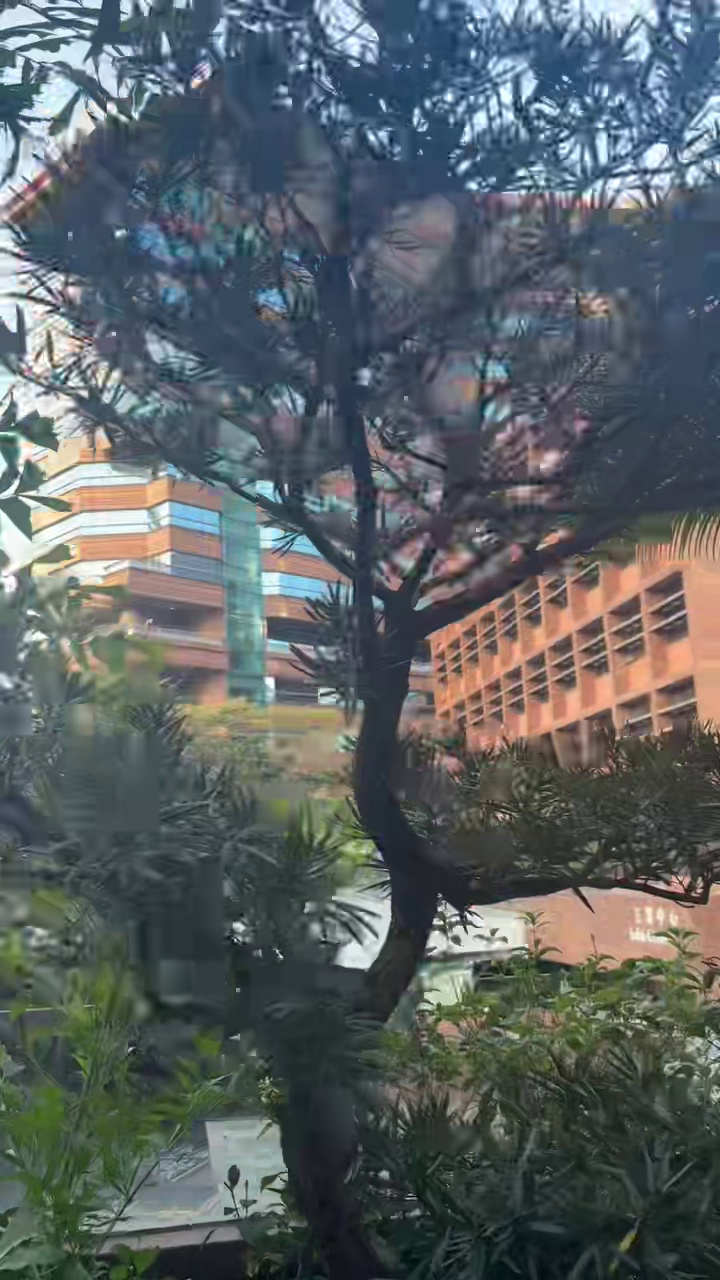Podocarpus macrophyllus: (19, 0, 719, 1279)
